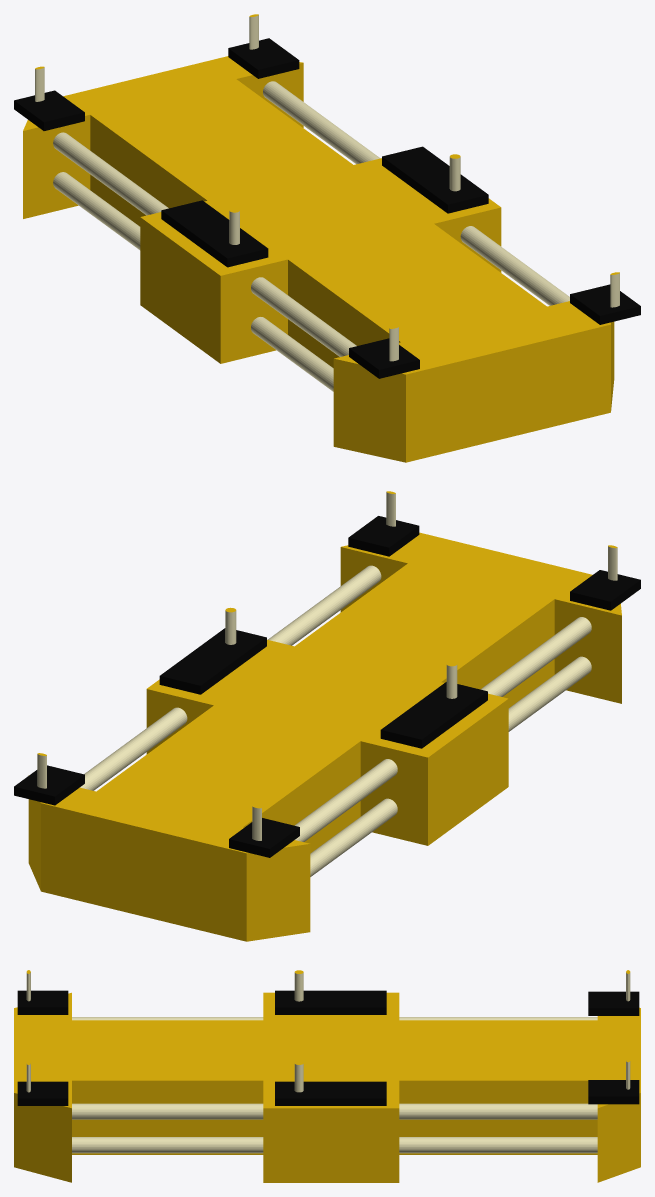
The picture shows the model from 3 angles, top to bottom: view 1: azimuth 30°, elevation 25°; view 2: azimuth 150°, elevation 25°; view 3: azimuth 270°, elevation 25°; orthographic projection. The views are drawn at different scales.
Visible parts, largest first — view 1: Cube; view 2: Cube; view 3: Cube.
Part boxes in pixels (bbox=[...]): Cube: bbox=[14, 14, 640, 462]; Cube: bbox=[14, 491, 640, 941]; Cube: bbox=[14, 970, 640, 1182].
Size of the model in its own units: 0.2 by 0.4576 by 0.0882.
